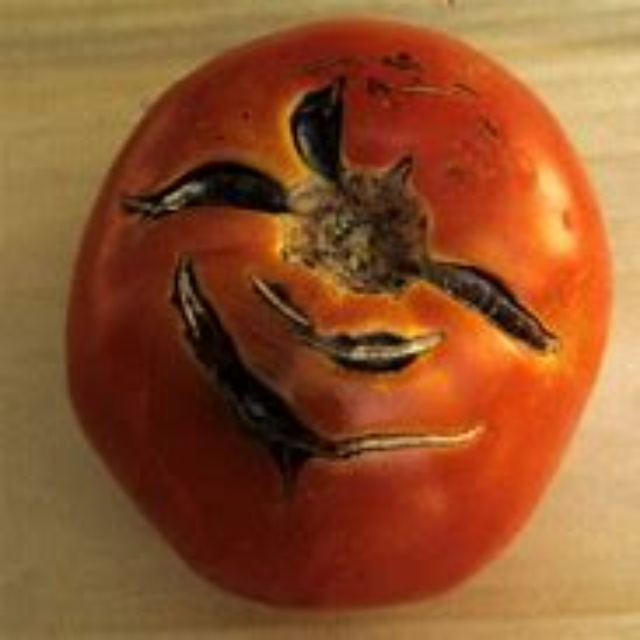tomato: (66, 22, 605, 606)
